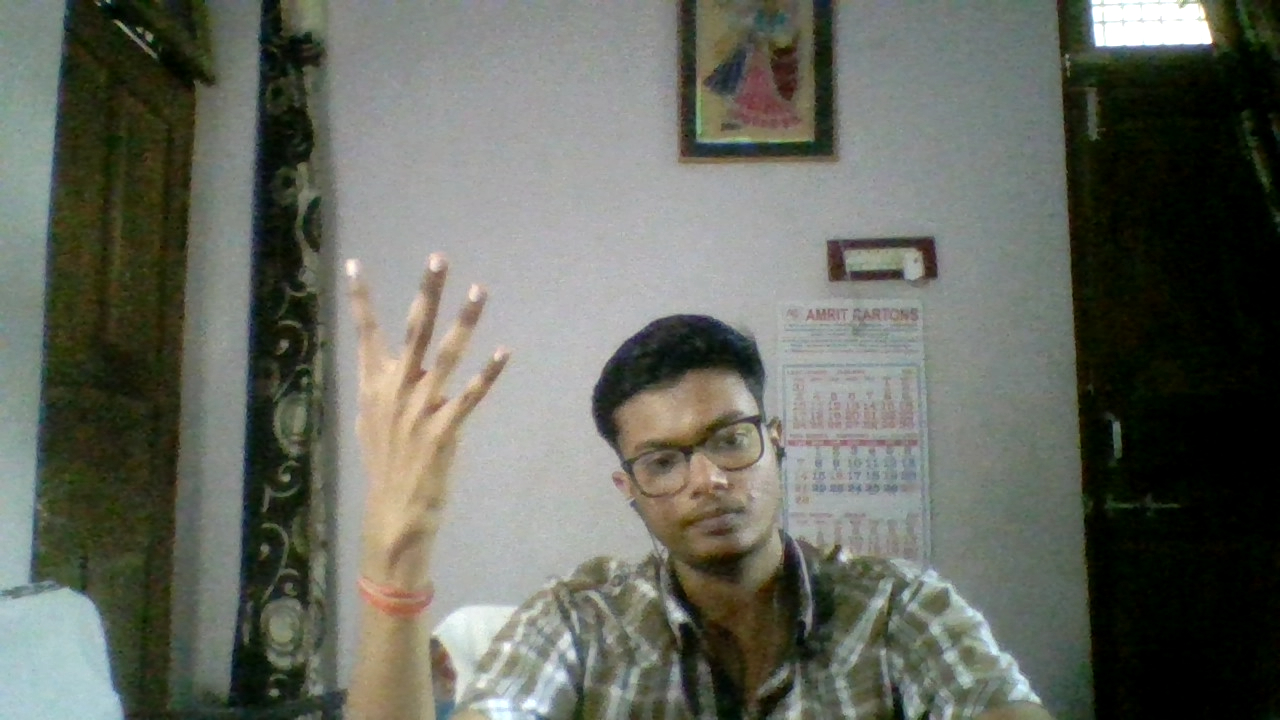four: (328, 232, 521, 581)
